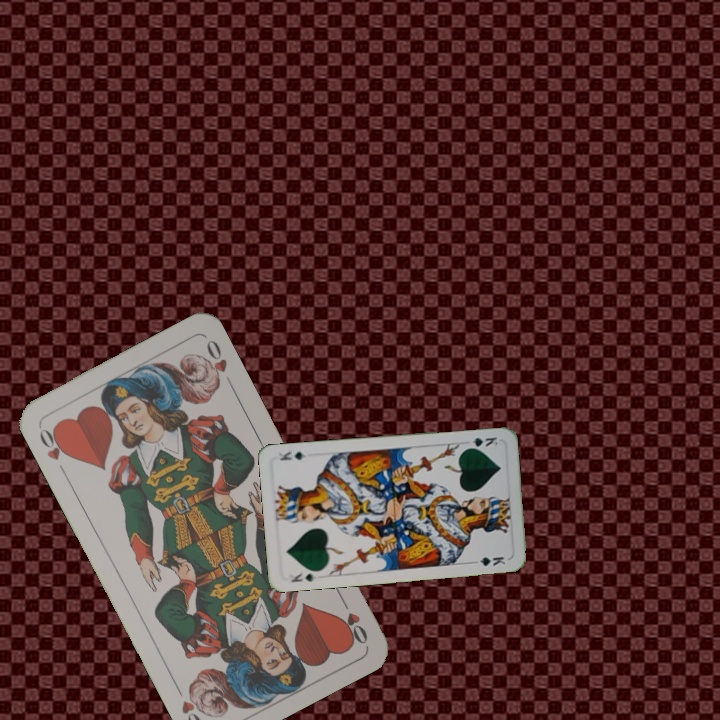GK: (461, 433, 500, 451), (287, 568, 319, 585)
HO: (35, 423, 72, 477), (335, 592, 371, 647)
